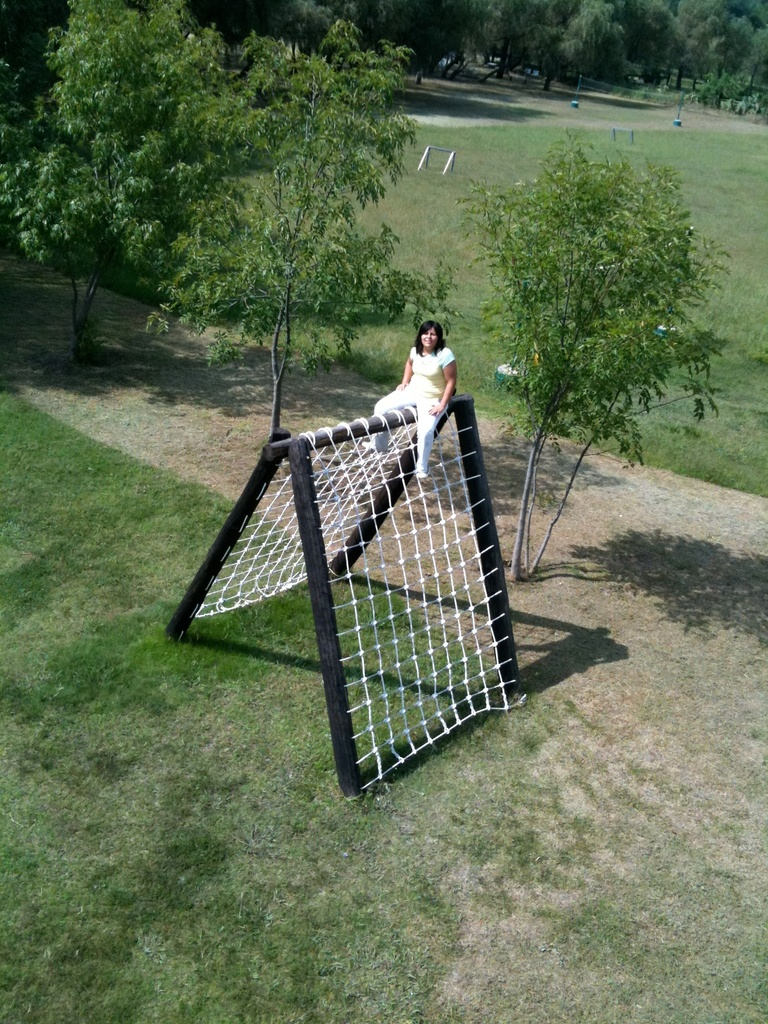person: (393, 317, 459, 481)
